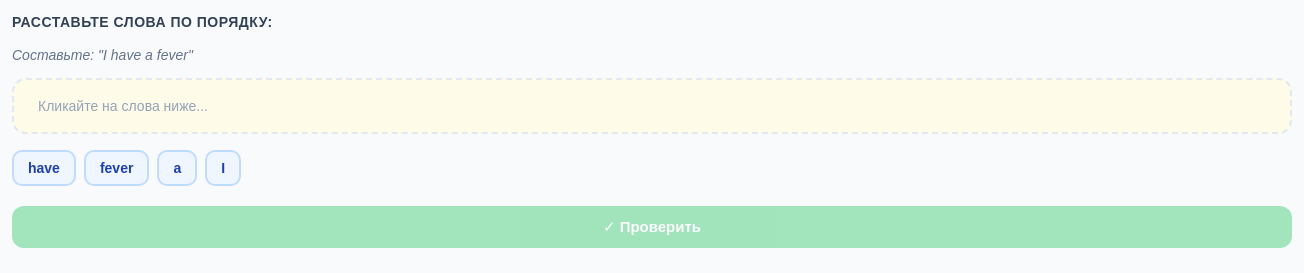
Scenario: WordOrderTask › кнопка "Проверить" активируется после добавления слова
Click the button with class "word-chip--available" showing "have" at (44, 168), box [12,150,76,186]
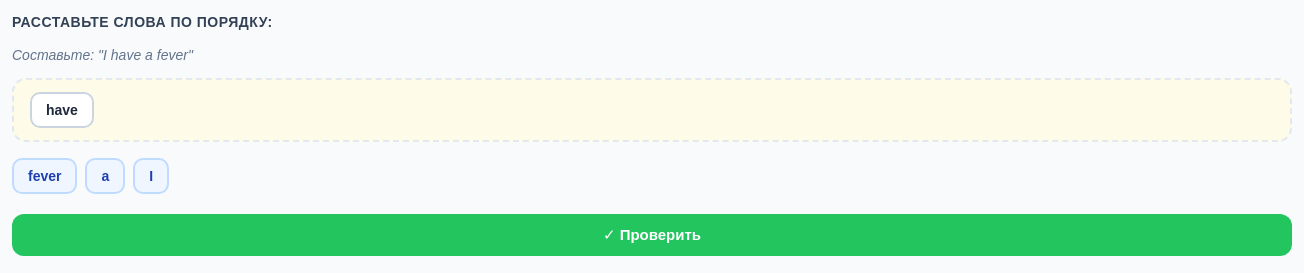
Now the button with class "task__check-btn" is enabled, box [12,214,1292,256]
